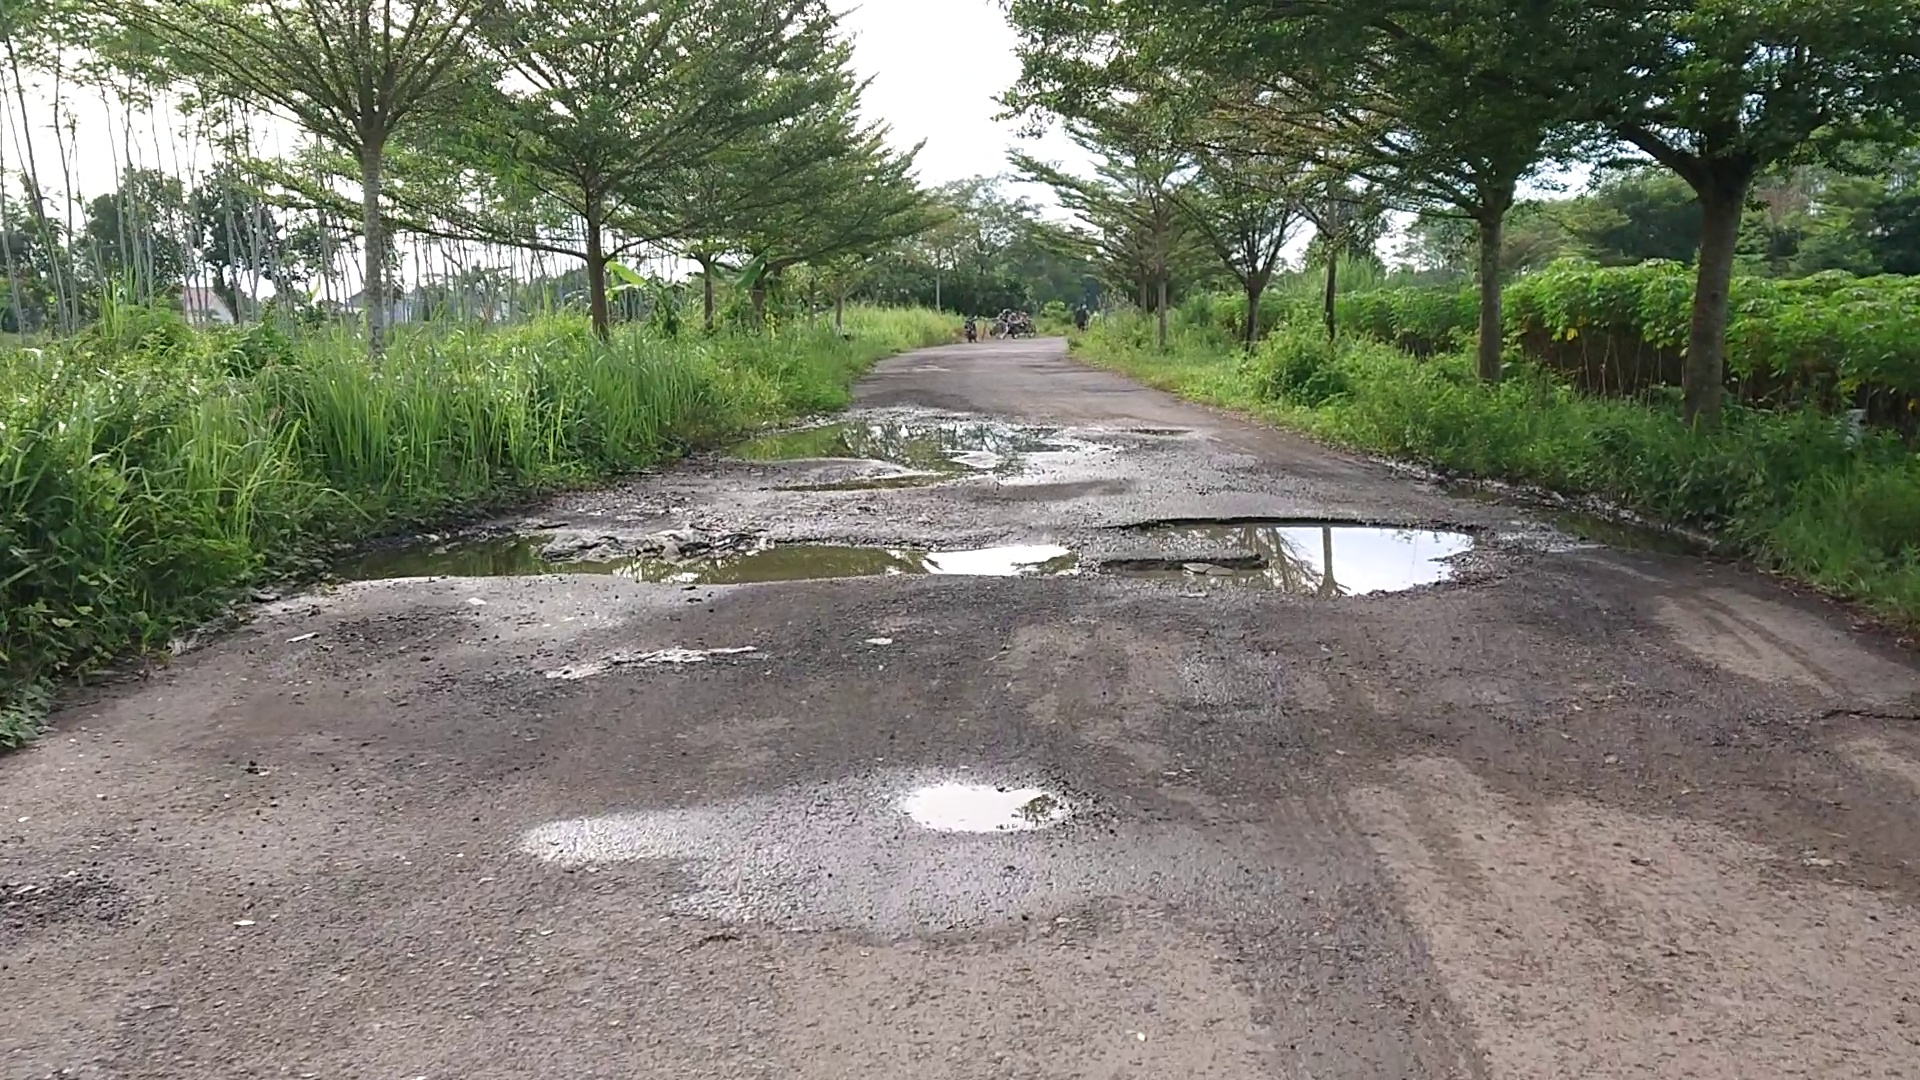Berlubang: (702, 421, 1156, 485), (1112, 517, 1491, 587), (371, 545, 1084, 582)
